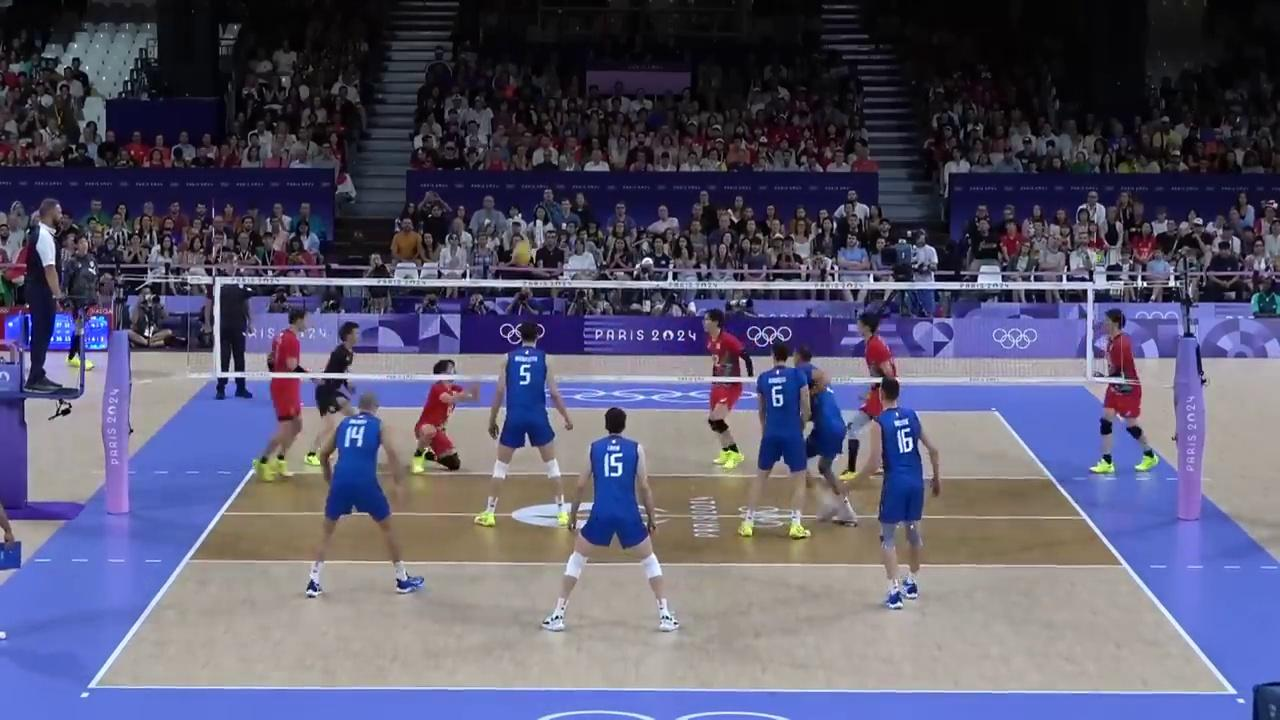ball: (511, 243, 531, 266)
